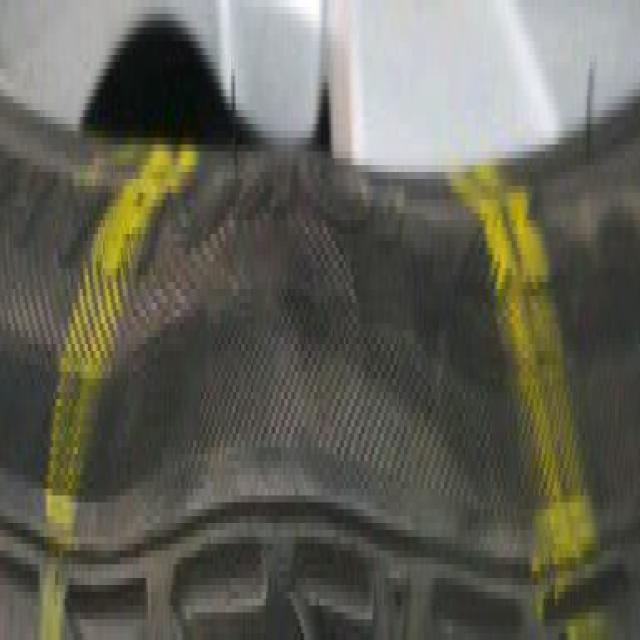Bulge: (117, 124, 503, 633)
